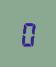zero: (19, 19, 34, 47)
